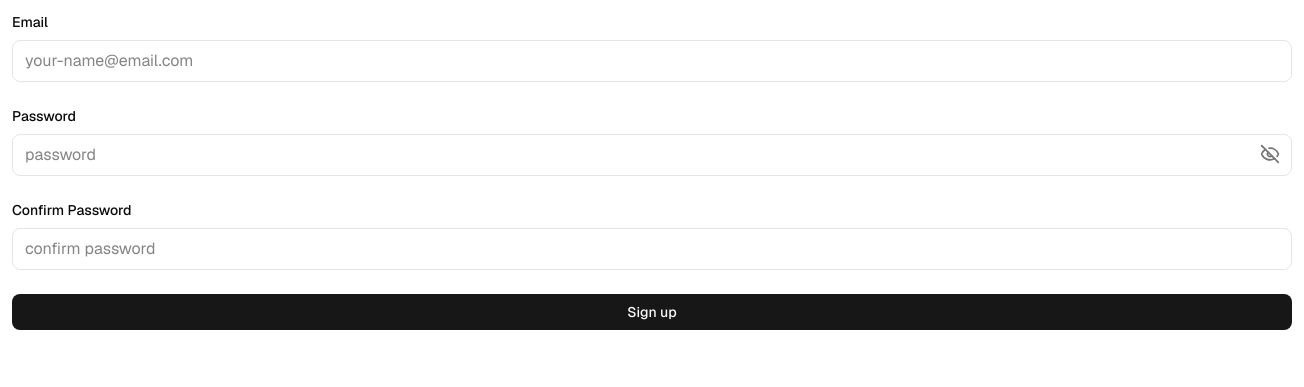
Scenario: SignupForm › should show validation error for short password
This screenshot has width=1304, height=387.
Step 1. Type "test@example.com" into the field labelled "Email" → (652, 61), box [12,40,1292,82]
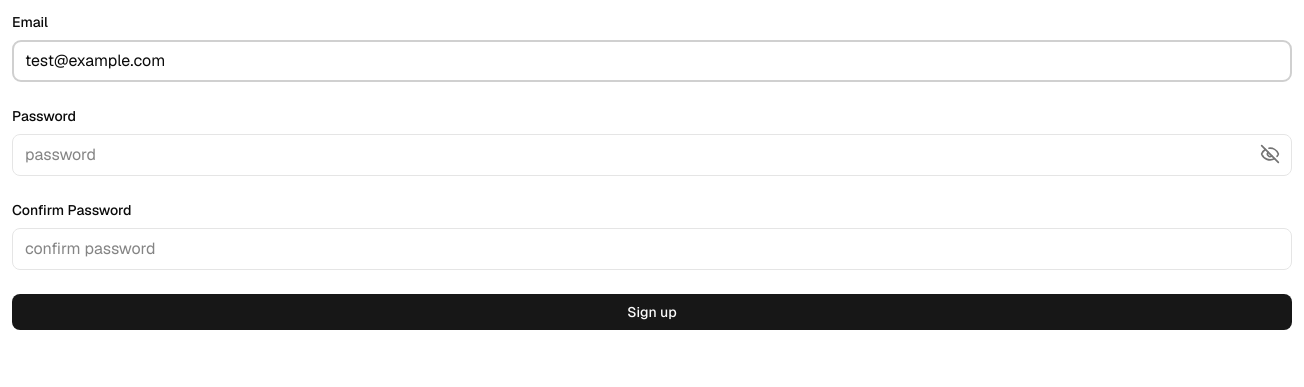
Step 2. Type "12345" into the password field labelled "Password" → (652, 155), box [12,134,1292,176]
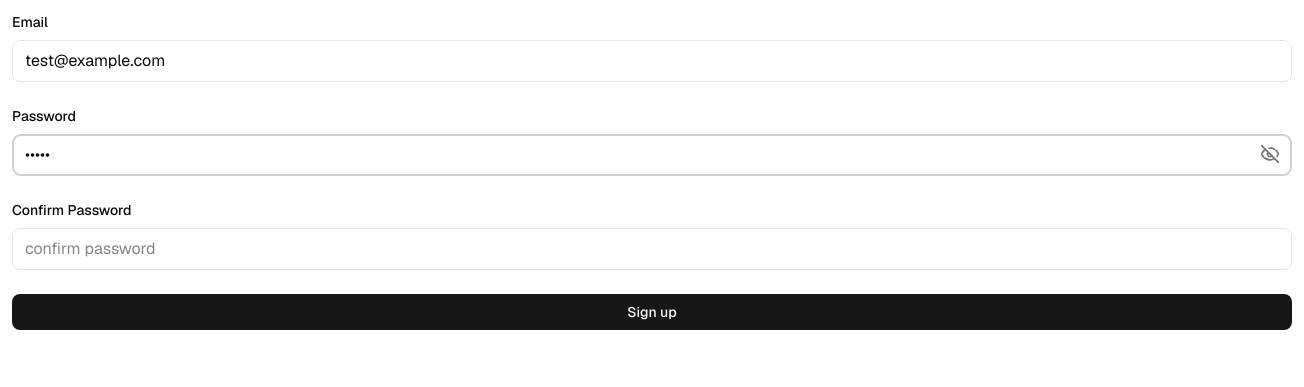
Step 3. Click the button "Sign up" → (652, 312), box [12,294,1292,330]
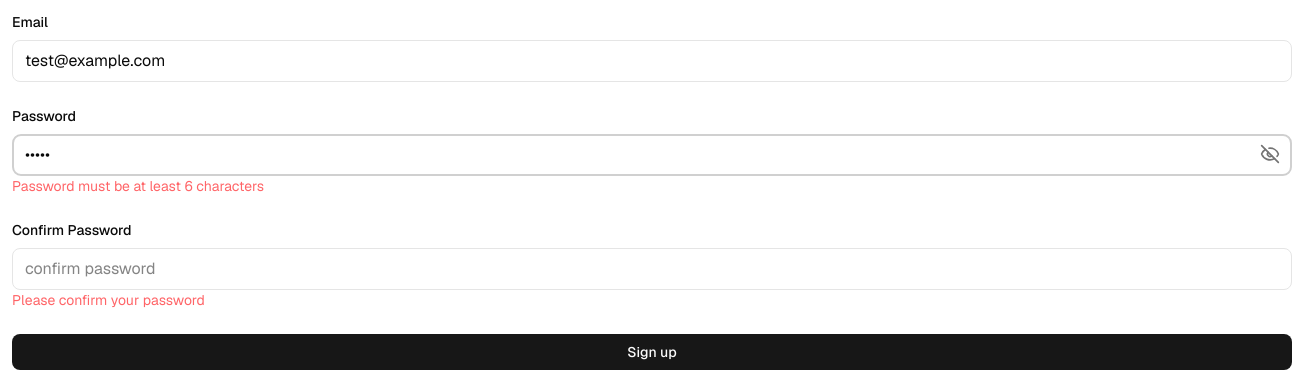
Check: the text "Password must be at least 6 characters" is shown, box [12,177,264,195]
